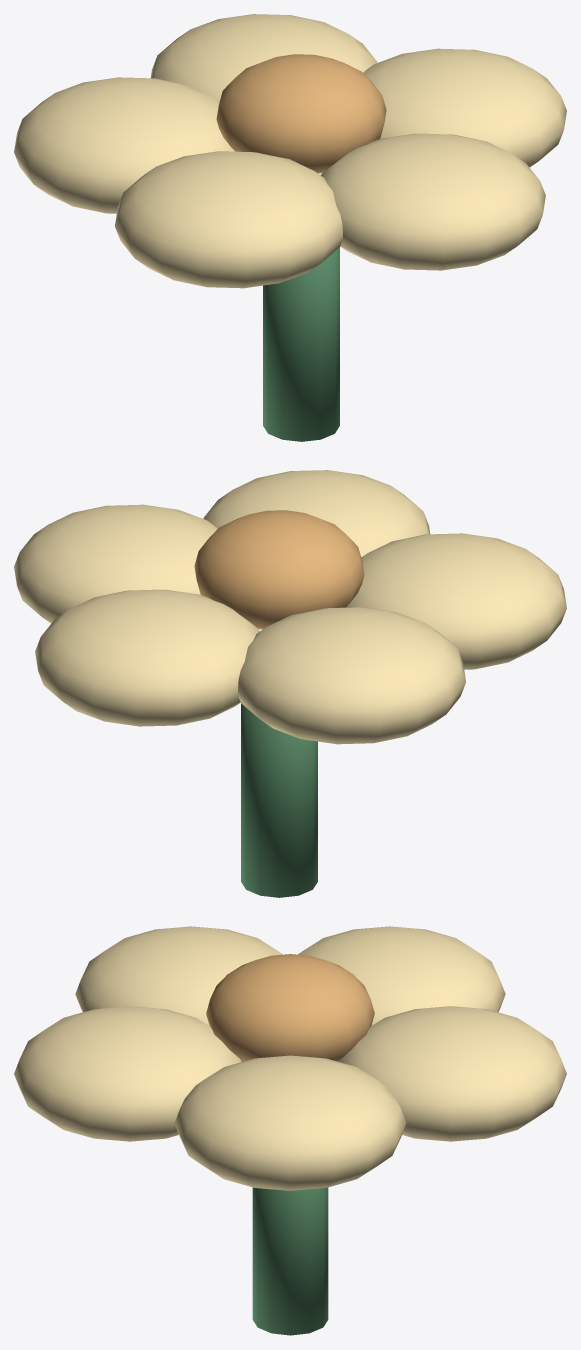
File: flower.glb
3 renders of one model, top to bottom at view 1: azimuth 30°, elevation 25°; view 2: azimuth 150°, elevation 25°; view 3: azimuth 270°, elevation 25°, orthographic.
Visible parts, largest first — view 1: flower; view 2: flower; view 3: flower.
Part boxes in pixels (left/top/right/bottom): flower: left=14, top=14, right=566, bottom=441; flower: left=14, top=470, right=566, bottom=897; flower: left=14, top=926, right=566, bottom=1335.
Size of the model in its own units: 0.2547 by 0.185 by 0.2622.
1 material, 1 textured.
